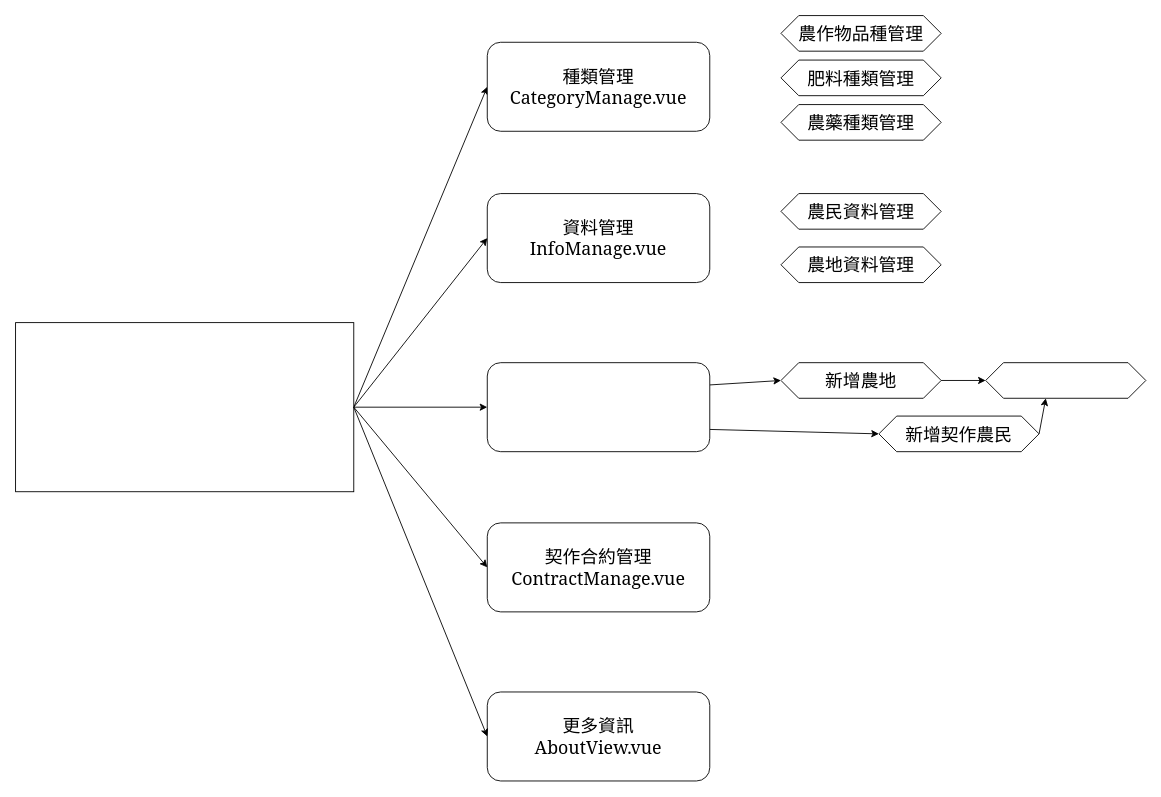
The diagram is 1161 pixels wide and 797 high, and some of its shapes have lost their labels. The shapes that lost their labels are listed below. From the top down, each one's centre as x and y in pixels, then its label:
At (1065,380): "新增契作合約".
At (184,407): "首頁 HomeView.vue".
At (598,407): "新增合約 AddContract.vue".
